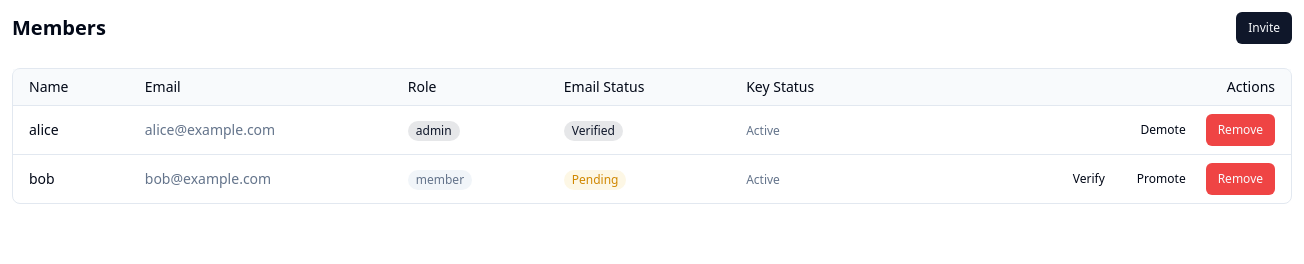
Test: OrgMembersTab › surfaces a fallback message when verifyMember rejects with a non-Error
The image size is (1304, 264).
Click the button "Verify" at (1089, 179), box x1=1061 y1=163 x2=1117 y2=195
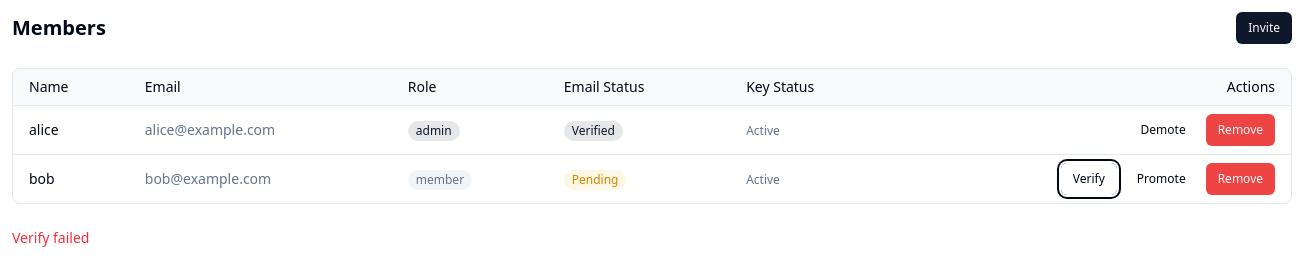
Expected: the text "Verify failed" is shown, x1=12 y1=228 x2=89 y2=247
